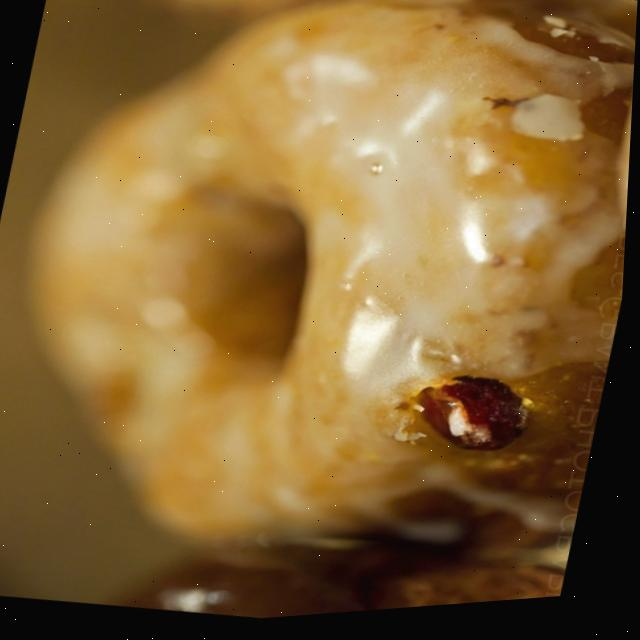炸货点心: (0, 0, 640, 627)
